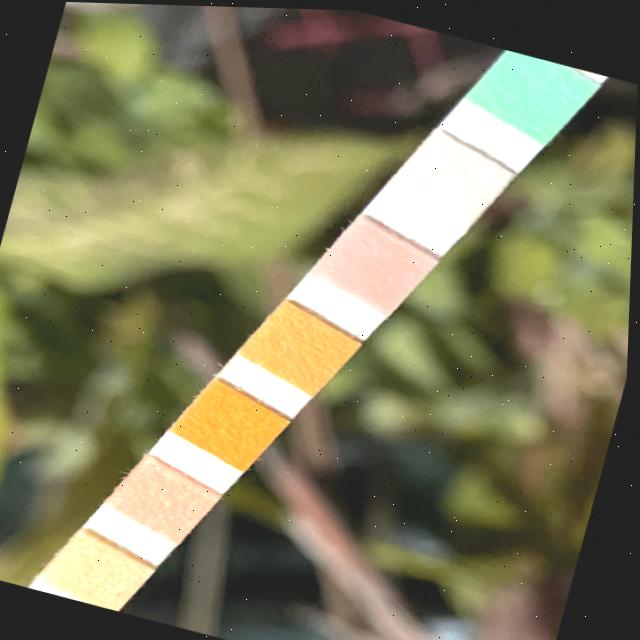Bilirubin: (404, 141, 496, 212)
Blood: (189, 393, 273, 450)
Glucose: (486, 53, 580, 118)
Ketone: (331, 230, 422, 296)
Protein: (57, 545, 140, 599)
SpGravity: (254, 315, 347, 377)
pH: (127, 470, 208, 528)
